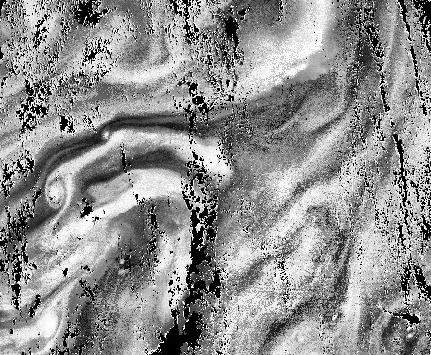CE: (42, 174, 68, 214)
